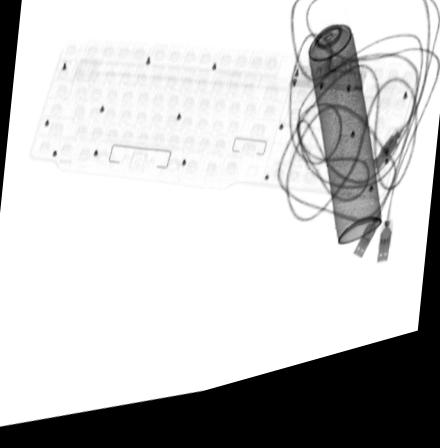Sprayer: (297, 5, 383, 265)
